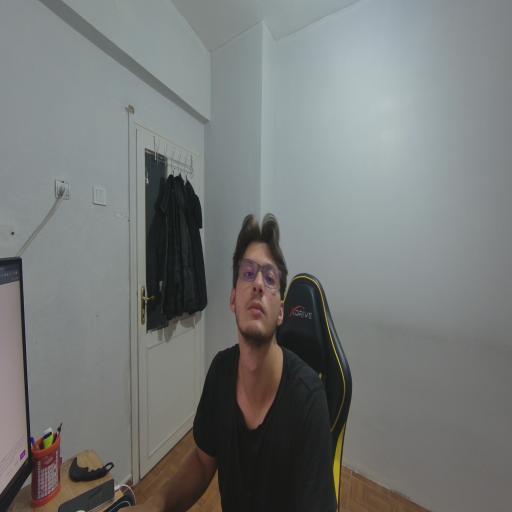cuma-face-v2: (215, 215, 295, 361)
